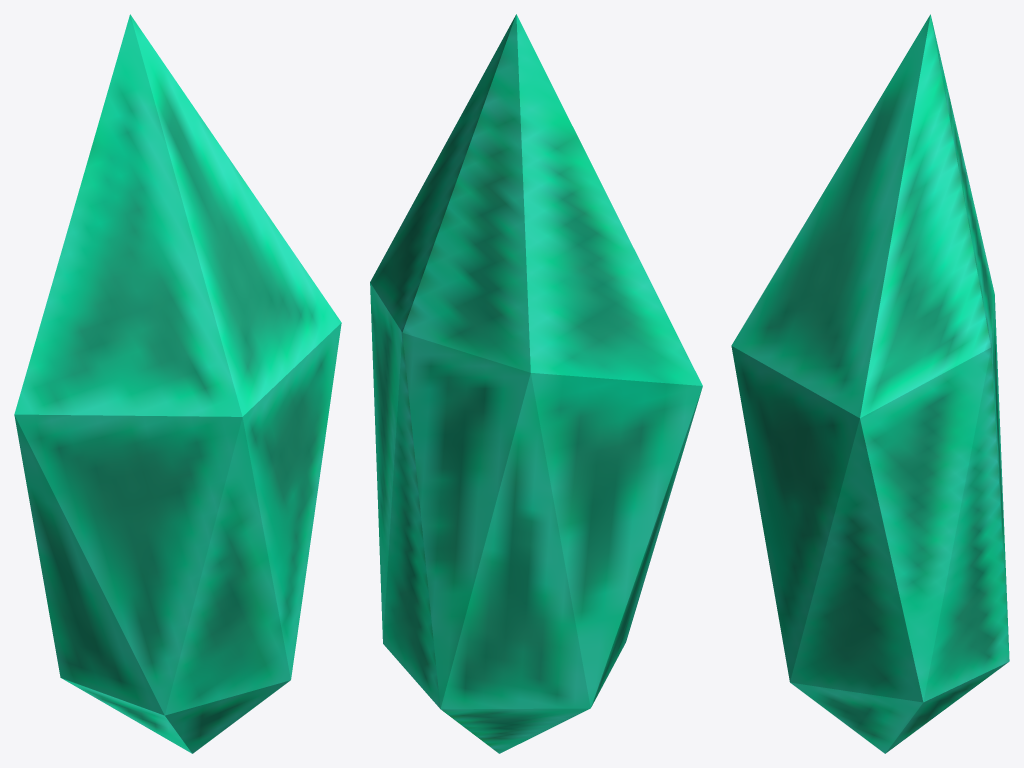
The model's file is crystal green.glb.
The picture shows the model from 3 angles, left to right: view 1: azimuth 30°, elevation 25°; view 2: azimuth 150°, elevation 25°; view 3: azimuth 270°, elevation 25°; orthographic projection. The views are drawn at different scales.
Visible parts, largest first — view 1: staff.001; view 2: staff.001; view 3: staff.001.
Boxes of the visible parts, x1,y1,x2,y2 form: staff.001: [14, 14, 341, 753]; staff.001: [370, 14, 702, 753]; staff.001: [731, 14, 1009, 753].
Size of the model in its own units: 0.1779 by 0.3862 by 0.135.
1 material, 1 textured.
